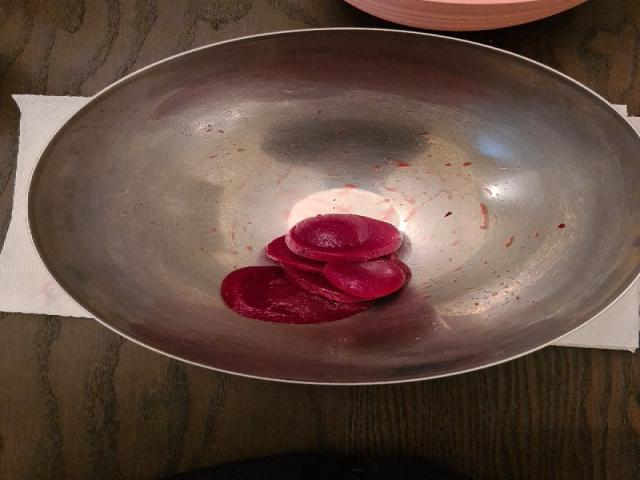kichen waste: (220, 214, 408, 324)
